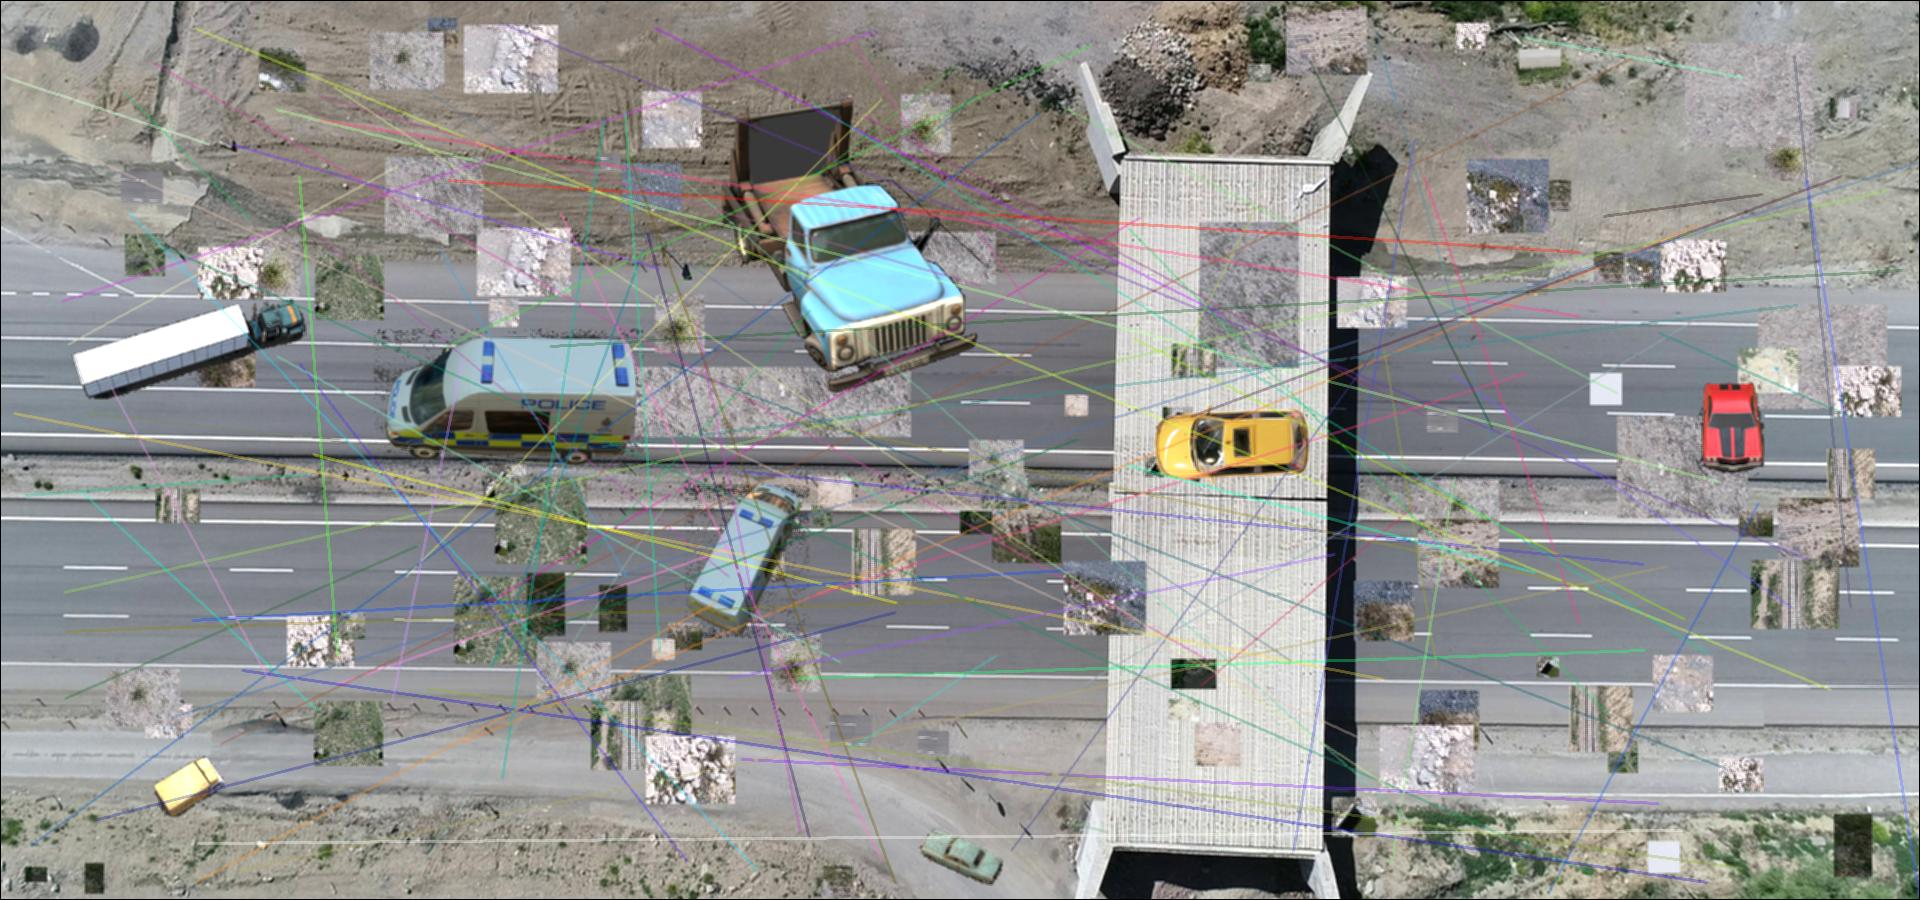arac: (722, 92, 983, 394), (373, 329, 643, 468), (67, 293, 307, 399), (684, 485, 809, 638), (1147, 402, 1321, 491), (1696, 380, 1769, 478), (917, 825, 1004, 887), (156, 752, 227, 817)
